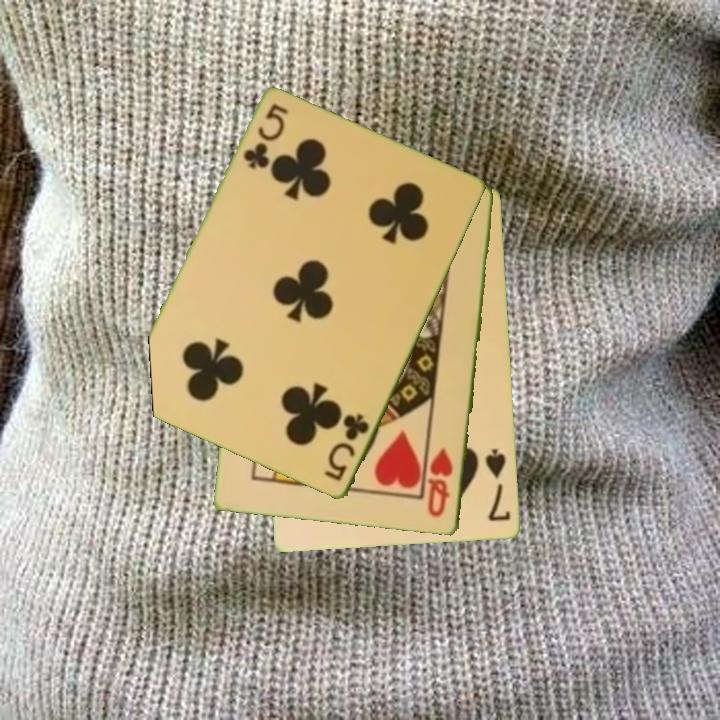5c: (321, 410, 373, 485), (239, 101, 291, 173)
7s: (482, 445, 514, 525)
Qh: (424, 444, 457, 521)
